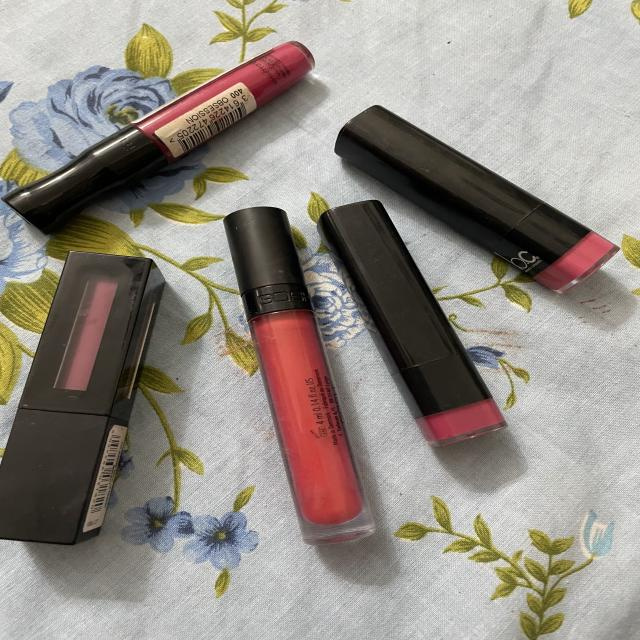lip gloss: (0, 26, 318, 236), (204, 199, 380, 558), (0, 240, 191, 560)
lip stick: (312, 72, 632, 454), (301, 188, 518, 457)
